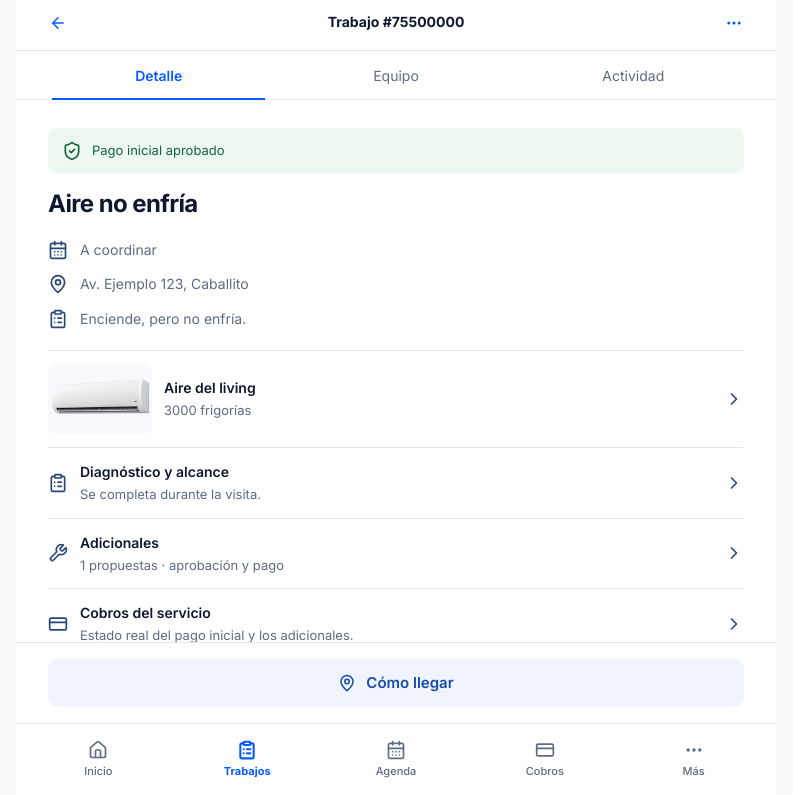
Test case: approved compact professional job workspace › distinguishes accepted additional from its still pending payment
The width and height of the screenshot is (793, 795).
Expected: the heading "Aire no enfría" is shown, [48,189,198,218]
Step 1. Click the button "Adicionales" → x=119, y=542, box [48,519,744,589]
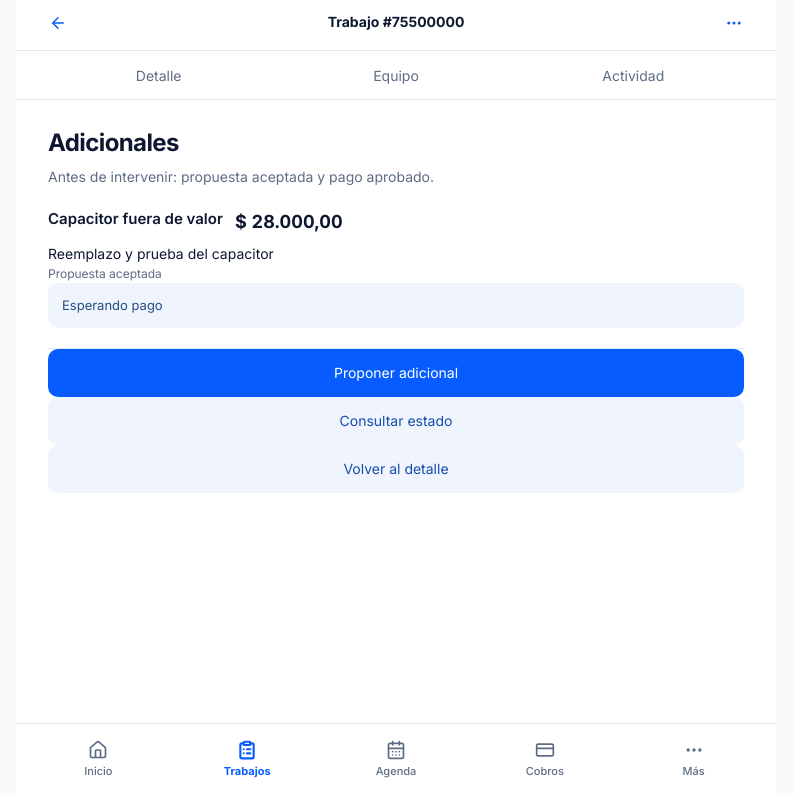
Expected: the text "Propuesta aceptada" is shown, [48,266,162,281]
Expected: the text "Esperando pago" is shown, [48,283,744,328]
